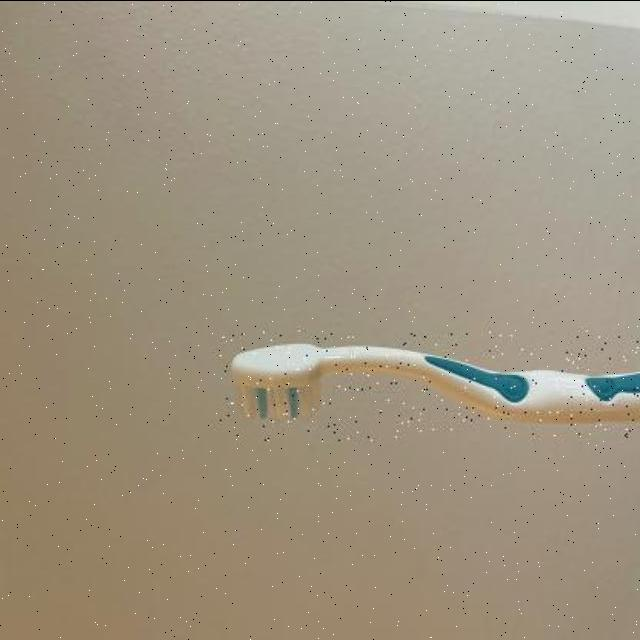toothbrush: (218, 330, 640, 440)
